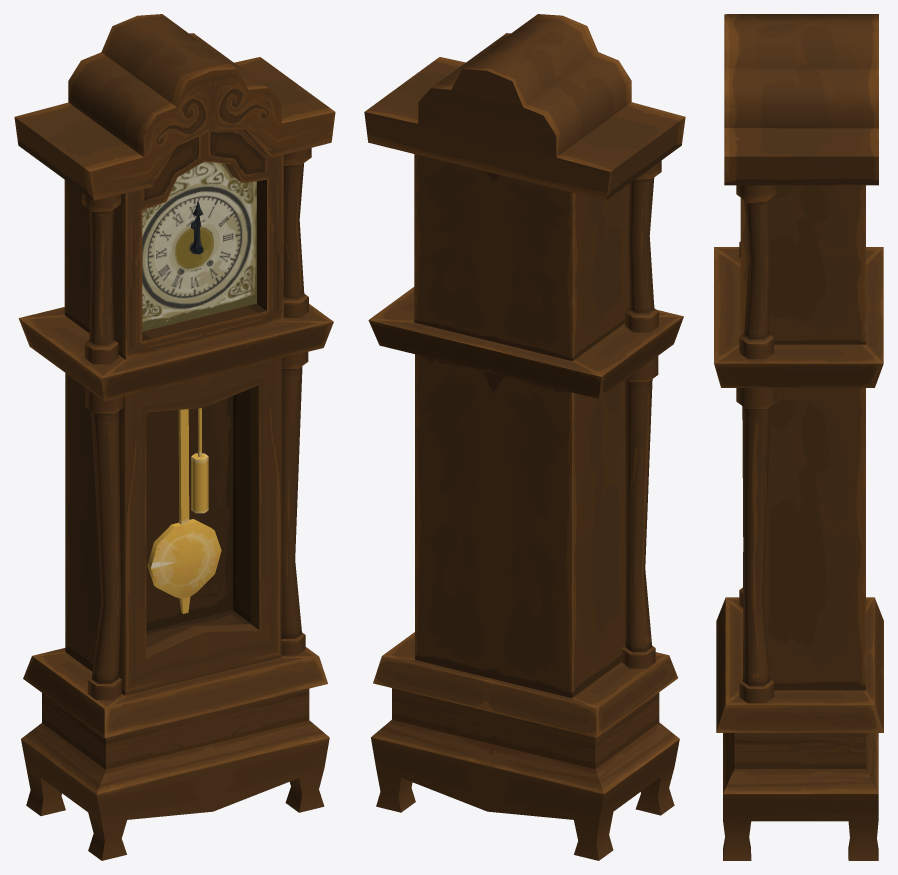
The model's file is SM_PROP_clock_interior.fbx.
The picture shows the model from 3 angles, left to right: view 1: azimuth 30°, elevation 25°; view 2: azimuth 150°, elevation 25°; view 3: azimuth 270°, elevation 25°; orthographic projection. The views are drawn at different scales.
Visible parts, largest first — view 1: SM_PROP_clock_interior, SM_PROP_clock_pendulum_interior; view 2: SM_PROP_clock_interior; view 3: SM_PROP_clock_interior.
Part boxes in pixels (x1,y1,x2,y2): SM_PROP_clock_interior: [14, 14, 335, 860]; SM_PROP_clock_pendulum_interior: [147, 409, 221, 613]; SM_PROP_clock_interior: [364, 14, 685, 860]; SM_PROP_clock_interior: [714, 14, 883, 860].
Bounding box in the file's own units: 66.63 × 198 × 38.85.
